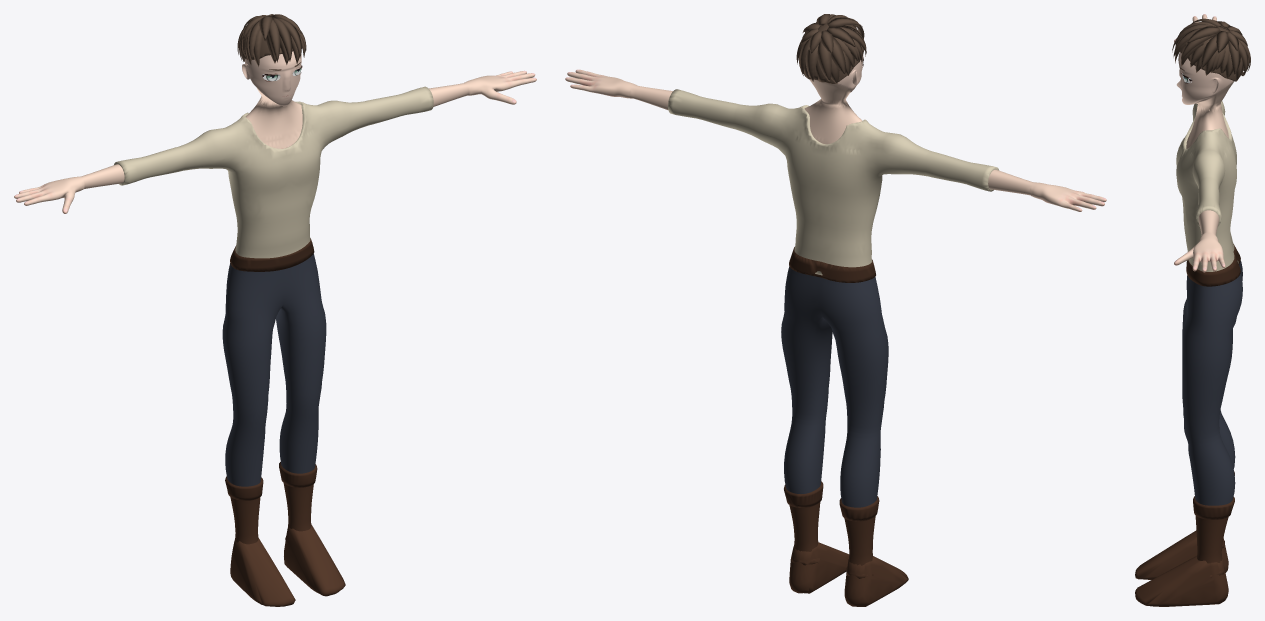
The model's file is adventurer-a012.glb.
3 renders of one model, left to right at view 1: azimuth 30°, elevation 25°; view 2: azimuth 150°, elevation 25°; view 3: azimuth 270°, elevation 25°, orthographic. The views are drawn at different scales.
Visible parts, largest first — view 1: Enosh_Outfit_Trousers, Enosh_Outfit_Shirt, Enosh_Skin, Enosh_Outfit_BootFeet, Enosh_Hair_01, Enosh_Outfit_Boots, Enosh_Outfit_Belt, Enosh_Outfit_BootCuffs; view 2: Enosh_Outfit_Trousers, Enosh_Outfit_Shirt, Enosh_Skin, Enosh_Outfit_BootFeet, Enosh_Hair_01, Enosh_Outfit_Boots, Enosh_Outfit_Belt, Enosh_Outfit_BootCuffs; view 3: Enosh_Outfit_Trousers, Enosh_Outfit_Shirt, Enosh_Outfit_BootFeet, Enosh_Skin, Enosh_Hair_01, Enosh_Outfit_Boots, Enosh_Outfit_Belt, Enosh_Outfit_BootCuffs.
Boxes of the visible parts, x1,y1,x2,y2 form: Enosh_Outfit_Trousers: [222, 253, 326, 486]; Enosh_Outfit_Shirt: [114, 86, 433, 258]; Enosh_Skin: [14, 51, 536, 213]; Enosh_Outfit_BootFeet: [230, 524, 345, 606]; Enosh_Hair_01: [237, 14, 306, 66]; Enosh_Outfit_Boots: [230, 483, 313, 554]; Enosh_Outfit_Belt: [230, 238, 314, 271]; Enosh_Outfit_BootCuffs: [225, 462, 317, 500]; Enosh_Outfit_Trousers: [781, 266, 888, 507]; Enosh_Outfit_Shirt: [668, 89, 999, 275]; Enosh_Skin: [565, 54, 1106, 211]; Enosh_Outfit_BootFeet: [789, 542, 908, 606]; Enosh_Hair_01: [796, 14, 866, 83]; Enosh_Outfit_Boots: [789, 502, 875, 578]; Enosh_Outfit_Belt: [789, 247, 875, 282]; Enosh_Outfit_BootCuffs: [784, 481, 879, 521]; Enosh_Outfit_Trousers: [1182, 261, 1242, 505]; Enosh_Outfit_Shirt: [1176, 101, 1238, 271]; Enosh_Outfit_BootFeet: [1135, 530, 1228, 606]; Enosh_Skin: [1174, 14, 1234, 272]; Enosh_Hair_01: [1172, 18, 1250, 81]; Enosh_Outfit_Boots: [1195, 516, 1228, 577]; Enosh_Outfit_Belt: [1186, 244, 1240, 286]; Enosh_Outfit_BootCuffs: [1193, 471, 1234, 519].
Bounding box in the file's own units: 1.72 × 1.76 × 0.3284.
22 materials, 14 textured.
